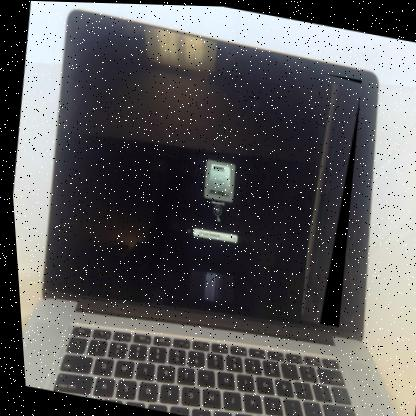lines: (283, 70, 374, 327)
